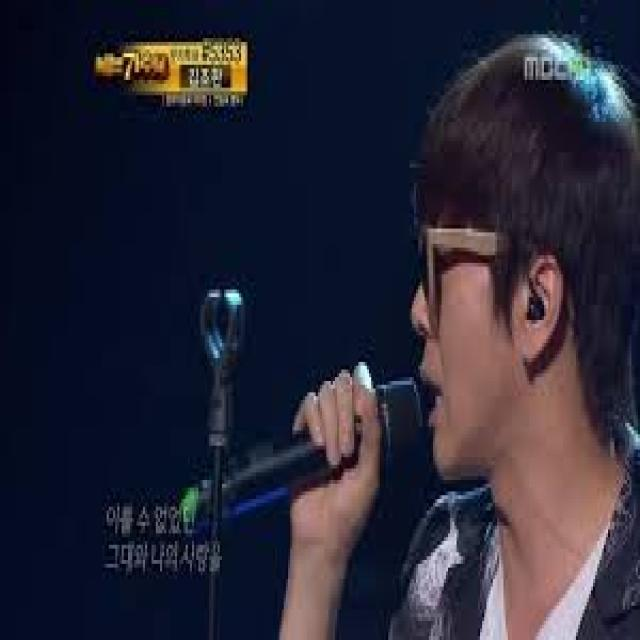earphone: (525, 276, 556, 326)
